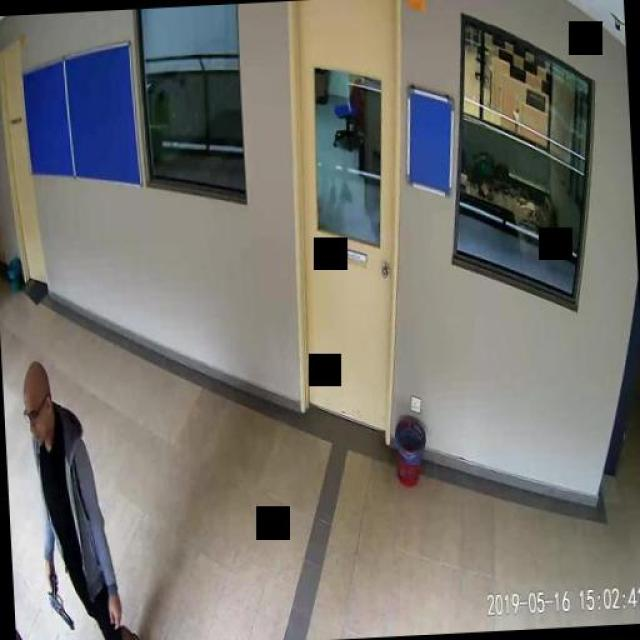gun: (45, 570, 74, 631)
